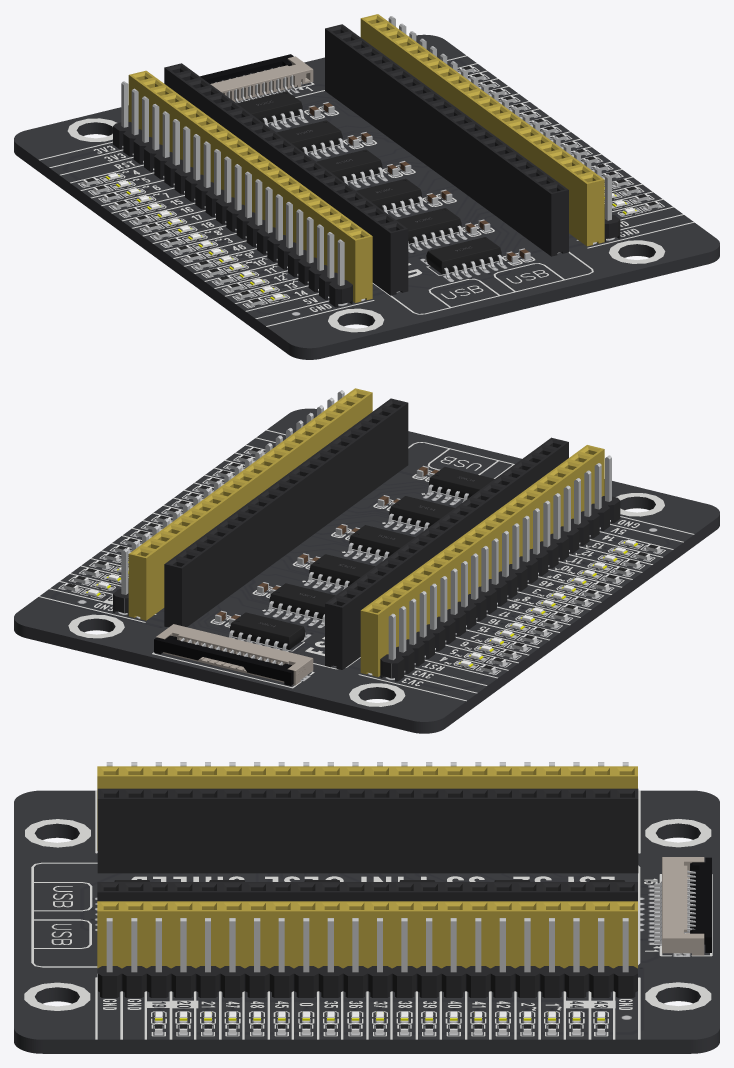
Rendered from esp32-s3-pinpulse.glb.
3 renders of one model, top to bottom at view 1: azimuth 30°, elevation 25°; view 2: azimuth 150°, elevation 25°; view 3: azimuth 270°, elevation 25°, orthographic. The views are drawn at different scales.
Parts seen in each view (by area): view 1: esp32-s3-pinpulse_2026-09-17_lin, esp32-s3-pinpulse_2026-09-17_lin.001; view 2: esp32-s3-pinpulse_2026-09-17_lin, esp32-s3-pinpulse_2026-09-17_lin.001; view 3: esp32-s3-pinpulse_2026-09-17_lin, esp32-s3-pinpulse_2026-09-17_lin.001.
Boxes of the visible parts, <box> form: esp32-s3-pinpulse_2026-09-17_lin: <box>14,14,719,359</box>; esp32-s3-pinpulse_2026-09-17_lin.001: <box>14,34,719,348</box>; esp32-s3-pinpulse_2026-09-17_lin: <box>14,388,719,733</box>; esp32-s3-pinpulse_2026-09-17_lin.001: <box>14,408,719,721</box>; esp32-s3-pinpulse_2026-09-17_lin: <box>14,762,719,1053</box>; esp32-s3-pinpulse_2026-09-17_lin.001: <box>14,790,719,1039</box>.
Size of the model in its own units: 60.97 by 11.9 by 72.97.
Materials: 22 (2 with a texture image).
